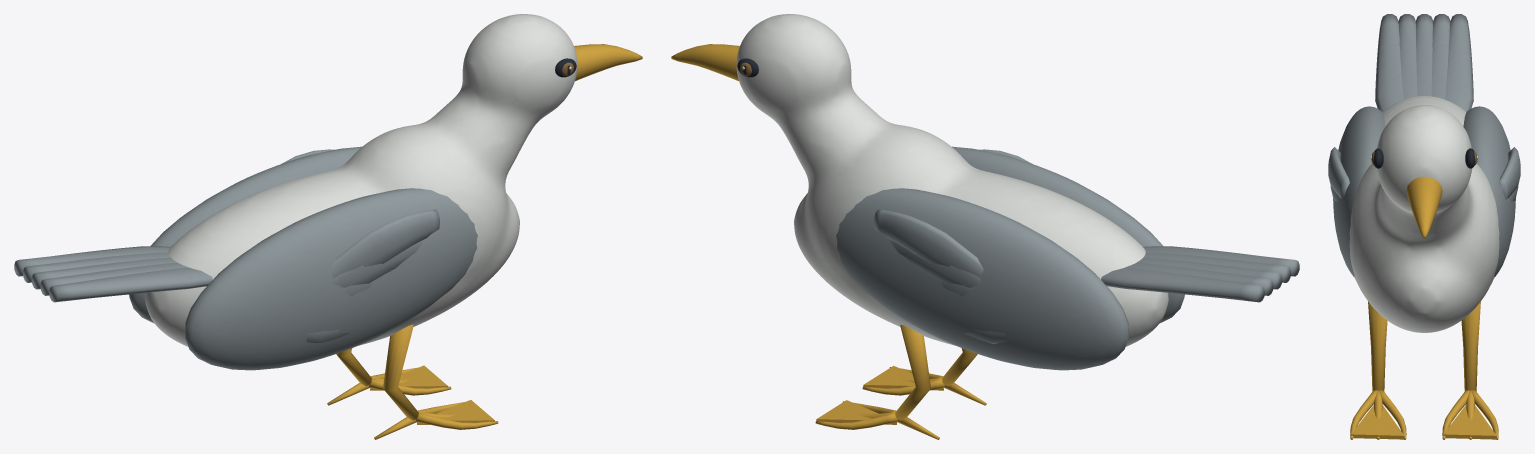
The model's file is coastal-gull.glb.
3 views of the same model, side by side, from view 1: azimuth 30°, elevation 25°; view 2: azimuth 150°, elevation 25°; view 3: azimuth 270°, elevation 25° (orthographic).
Visible parts, largest first — view 1: Continuous anatomical skin, Convex folded wing wrapping flank, Convex folded wing wrapping flank.001, Curved overlapping primary feather, Rounded overlapping solid tail feather, Articulated bird leg, Tapered solid bird bill, Rounded overlapping solid tail feather.004, Curved overlapping primary feather.001, Rounded overlapping solid tail feather.001, Rounded overlapping solid tail feather.003, Rounded overlapping solid tail feather.002 (+3 smaller); view 2: Continuous anatomical skin, Convex folded wing wrapping flank.001, Convex folded wing wrapping flank, Curved overlapping primary feather.005, Rounded overlapping solid tail feather.004, Articulated bird leg.001, Tapered solid bird bill, Rounded overlapping solid tail feather, Curved overlapping primary feather.006, Rounded overlapping solid tail feather.003, Rounded overlapping solid tail feather.001, Rounded overlapping solid tail feather.002 (+3 smaller); view 3: Continuous anatomical skin, Convex folded wing wrapping flank, Convex folded wing wrapping flank.001, Rounded overlapping solid tail feather.004, Rounded overlapping solid tail feather, Tapered solid bird bill, Rounded overlapping solid tail feather.003, Rounded overlapping solid tail feather.001, Rounded overlapping solid tail feather.002, Articulated bird leg, Articulated bird leg.001, Webbed foot (+9 smaller).
Boxes of the visible parts, x1=… form: Continuous anatomical skin: x1=145, y1=14, x2=577, y2=346; Convex folded wing wrapping flank: x1=185, y1=188, x2=477, y2=370; Convex folded wing wrapping flank.001: x1=129, y1=146, x2=361, y2=323; Curved overlapping primary feather: x1=220, y1=209, x2=439, y2=364; Rounded overlapping solid tail feather: x1=49, y1=267, x2=212, y2=302; Articulated bird leg: x1=383, y1=324, x2=418, y2=420; Tapered solid bird bill: x1=574, y1=44, x2=642, y2=81; Rounded overlapping solid tail feather.004: x1=14, y1=246, x2=170, y2=276; Curved overlapping primary feather.001: x1=333, y1=240, x2=423, y2=287; Rounded overlapping solid tail feather.001: x1=40, y1=262, x2=188, y2=295; Rounded overlapping solid tail feather.003: x1=23, y1=252, x2=170, y2=282; Rounded overlapping solid tail feather.002: x1=31, y1=257, x2=176, y2=289; Continuous anatomical skin: x1=736, y1=14, x2=1168, y2=346; Convex folded wing wrapping flank.001: x1=836, y1=188, x2=1128, y2=370; Convex folded wing wrapping flank: x1=952, y1=146, x2=1184, y2=323; Curved overlapping primary feather.005: x1=874, y1=209, x2=1093, y2=364; Rounded overlapping solid tail feather.004: x1=1101, y1=267, x2=1264, y2=302; Articulated bird leg.001: x1=895, y1=324, x2=930, y2=420; Tapered solid bird bill: x1=671, y1=44, x2=739, y2=81; Rounded overlapping solid tail feather: x1=1143, y1=246, x2=1299, y2=276; Curved overlapping primary feather.006: x1=890, y1=240, x2=980, y2=287; Rounded overlapping solid tail feather.003: x1=1125, y1=262, x2=1273, y2=295; Rounded overlapping solid tail feather.001: x1=1143, y1=252, x2=1290, y2=282; Rounded overlapping solid tail feather.002: x1=1137, y1=257, x2=1282, y2=289; Continuous anatomical skin: x1=1349, y1=96, x2=1499, y2=332; Convex folded wing wrapping flank: x1=1333, y1=106, x2=1385, y2=276; Convex folded wing wrapping flank.001: x1=1463, y1=106, x2=1515, y2=276; Rounded overlapping solid tail feather.004: x1=1445, y1=14, x2=1473, y2=111; Rounded overlapping solid tail feather: x1=1375, y1=14, x2=1403, y2=111; Tapered solid bird bill: x1=1406, y1=176, x2=1442, y2=238; Rounded overlapping solid tail feather.003: x1=1431, y1=14, x2=1450, y2=99; Rounded overlapping solid tail feather.001: x1=1398, y1=14, x2=1417, y2=99; Rounded overlapping solid tail feather.002: x1=1415, y1=14, x2=1432, y2=96; Articulated bird leg: x1=1368, y1=301, x2=1387, y2=391; Articulated bird leg.001: x1=1461, y1=301, x2=1480, y2=391; Webbed foot: x1=1351, y1=405, x2=1404, y2=439.
Size of the model in its own units: 0.7857 by 0.45 by 0.2187.
6 materials, 6 textured.
